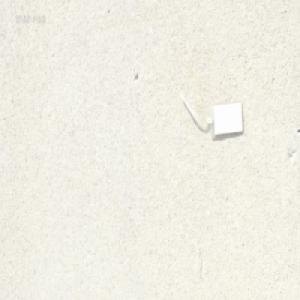LuggageTag: (174, 96, 244, 138)
